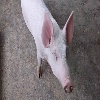heo: (36, 9, 77, 93)
